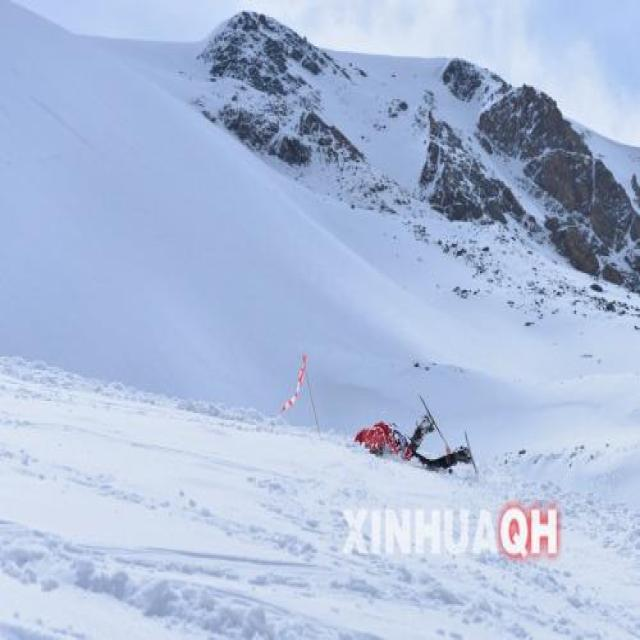down: (348, 387, 494, 483)
